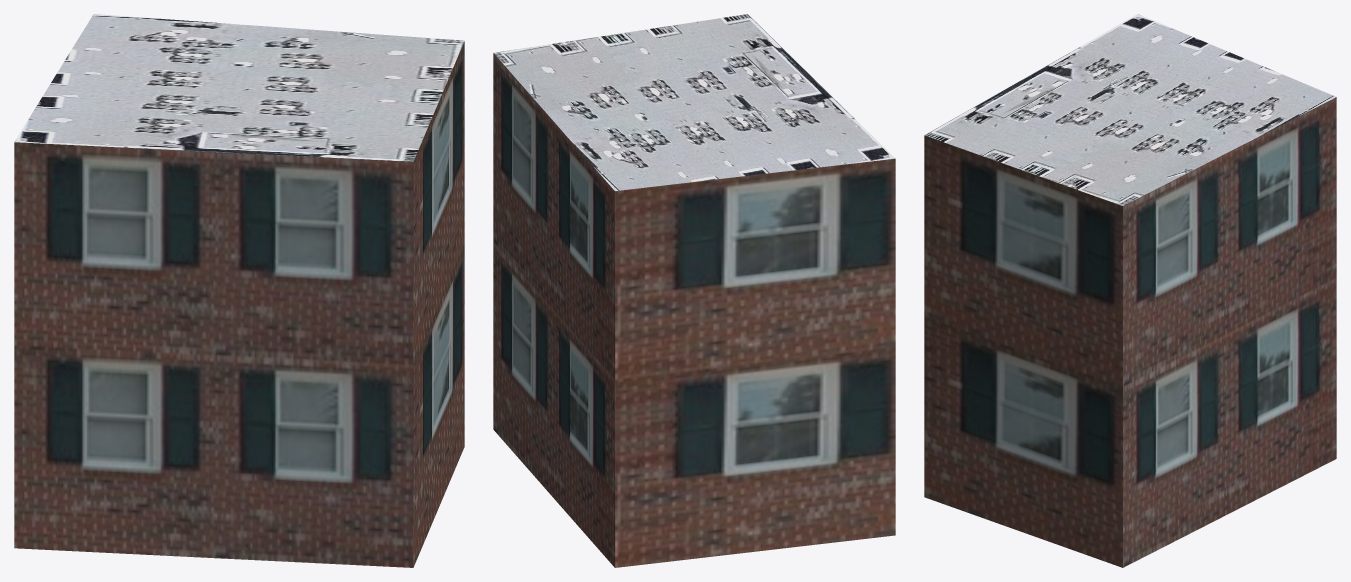
File: ResTex__968.fbx
3 renders of one model, left to right at view 1: azimuth 30°, elevation 25°; view 2: azimuth 150°, elevation 25°; view 3: azimuth 270°, elevation 25°, orthographic. The views are drawn at different scales.
Visible parts, largest first — view 1: CityEngineMaterial_14_m, CityEngineMaterial_8_m; view 2: CityEngineMaterial_14_m, CityEngineMaterial_8_m; view 3: CityEngineMaterial_14_m, CityEngineMaterial_8_m.
Boxes of the visible parts, <box> form: CityEngineMaterial_14_m: <box>14,41,464,567</box>; CityEngineMaterial_8_m: <box>14,14,464,161</box>; CityEngineMaterial_14_m: <box>493,53,895,567</box>; CityEngineMaterial_8_m: <box>494,14,894,190</box>; CityEngineMaterial_14_m: <box>924,97,1336,567</box>; CityEngineMaterial_8_m: <box>924,14,1335,205</box>.
Bounding box in the file's own units: 6.83 × 6 × 6.2.
2 materials, 2 textured.
